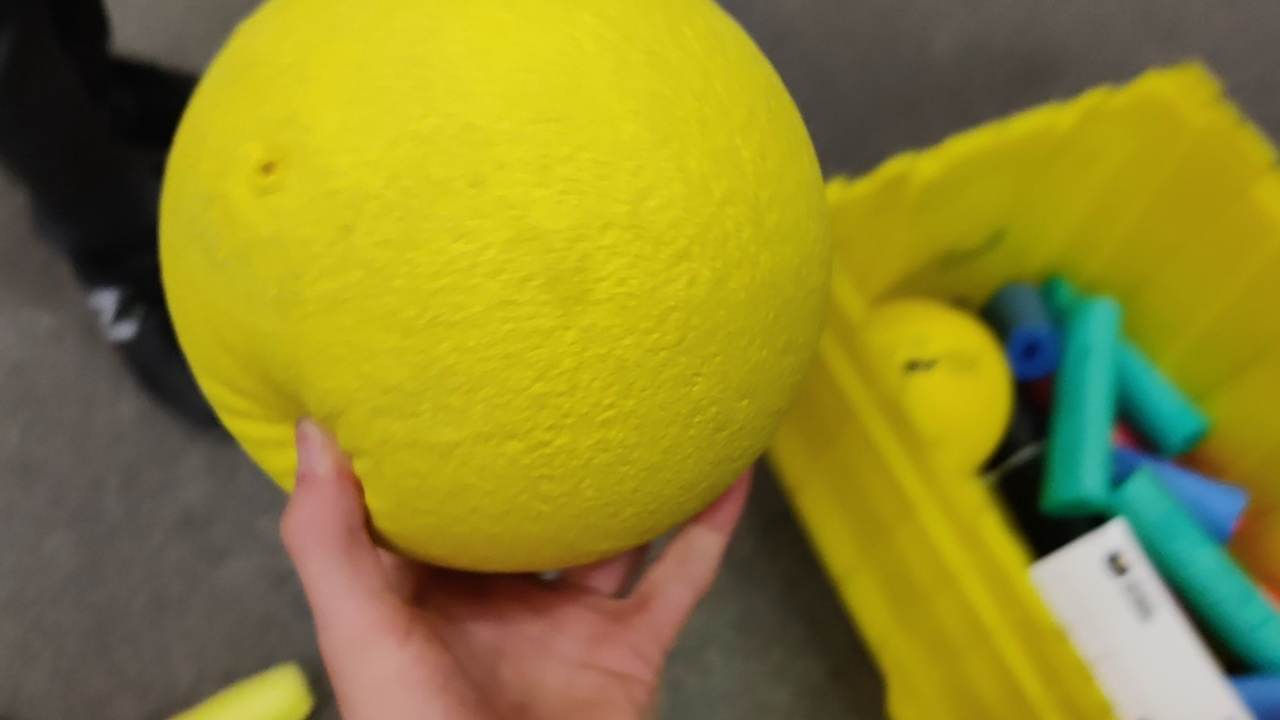Ball: (154, 1, 828, 569)
